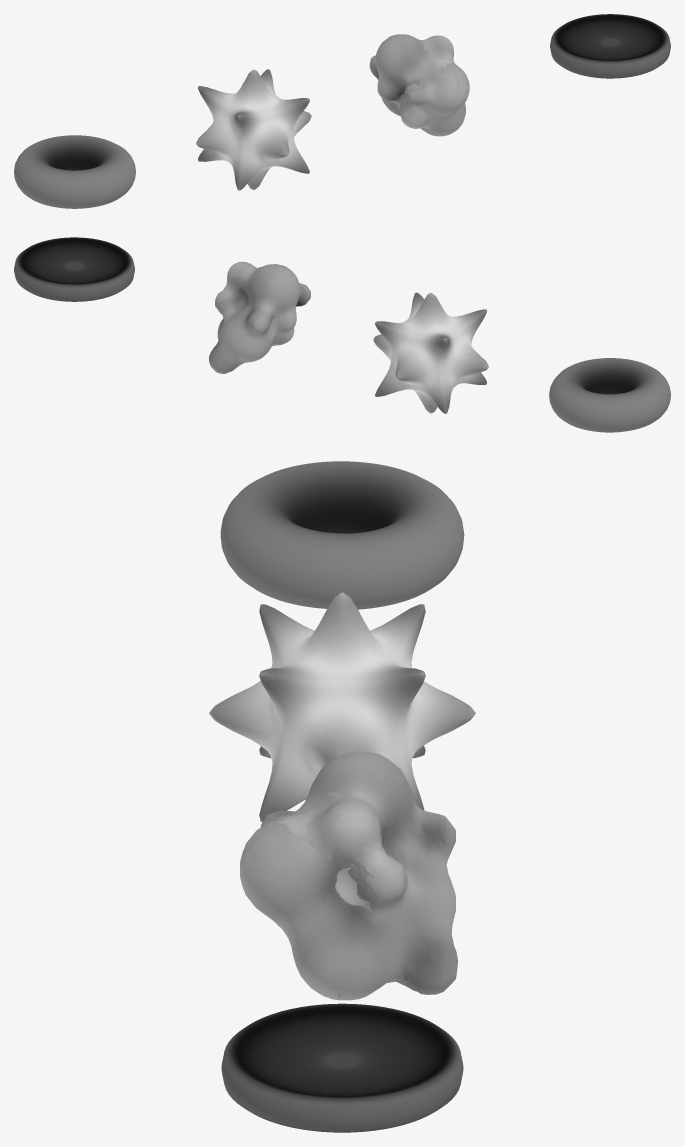
The picture shows the model from 3 angles, top to bottom: view 1: azimuth 30°, elevation 25°; view 2: azimuth 150°, elevation 25°; view 3: azimuth 270°, elevation 25°; orthographic projection. The views are drawn at different scales.
Parts seen in each view (by area): view 1: star, metaball, doughnut, coin; view 2: star, metaball, doughnut, coin; view 3: metaball, star, doughnut, coin.
Boxes of the visible parts, x1,y1,x2,y2 form: star: (196, 69, 311, 190); metaball: (369, 34, 469, 136); doughnut: (14, 135, 135, 208); coin: (550, 14, 670, 78); star: (373, 292, 488, 413); metaball: (209, 261, 310, 373); doughnut: (549, 358, 670, 432); coin: (14, 237, 134, 301); metaball: (240, 751, 457, 1000); star: (209, 592, 475, 822); doughnut: (220, 461, 464, 609); coin: (221, 1003, 463, 1132).
Bounding box in the file's own units: 14.38 × 2.6 × 2.6.
Materials: 4 (4 with a texture image).
